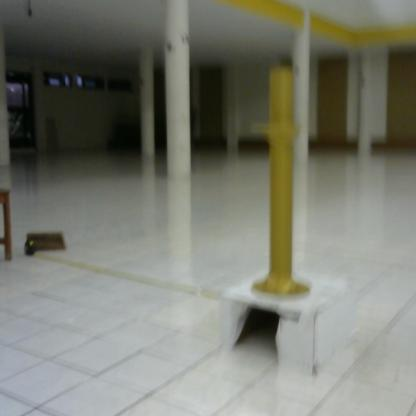pole: (248, 64, 320, 305)
